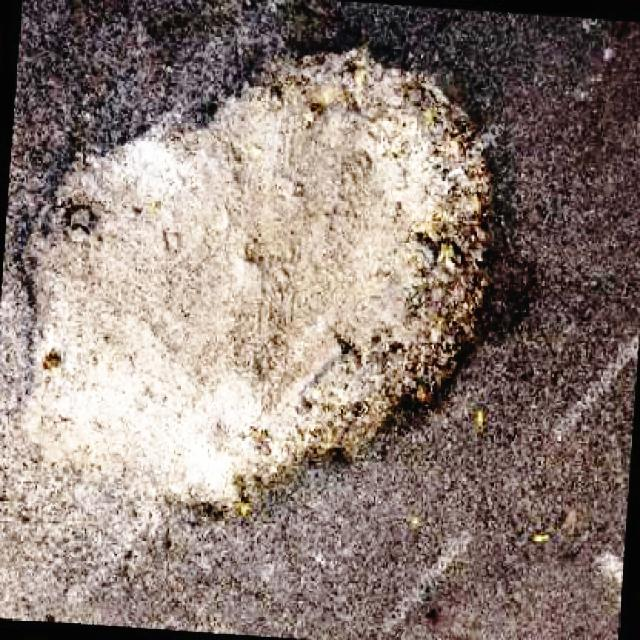pothole: (0, 33, 535, 535)
